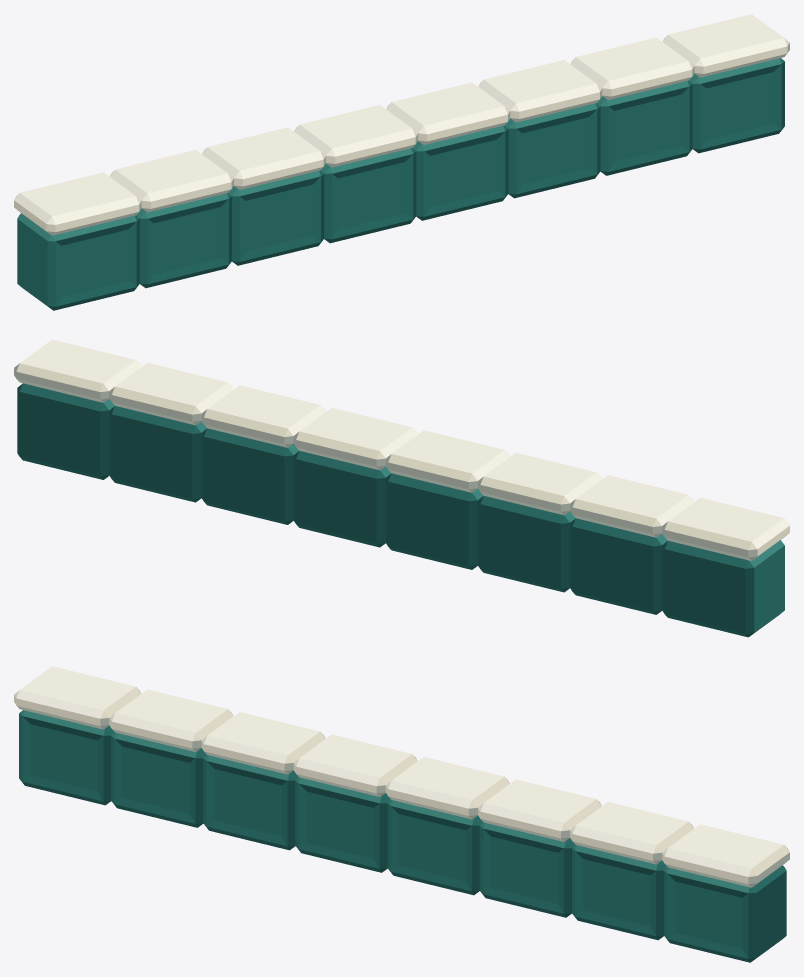
The model's file is Terrain_TopRun8LR.gltf.
3 renders of one model, top to bottom at view 1: azimuth 30°, elevation 25°; view 2: azimuth 150°, elevation 25°; view 3: azimuth 330°, elevation 25°, orthographic.
Visible parts, largest first — view 1: Terrain_TopRun8LR_baked; view 2: Terrain_TopRun8LR_baked; view 3: Terrain_TopRun8LR_baked.
Boxes of the visible parts, x1,y1,x2,y2 form: Terrain_TopRun8LR_baked: (14,14,789,310); Terrain_TopRun8LR_baked: (14,339,789,637); Terrain_TopRun8LR_baked: (14,666,789,962).
Bounding box in the file's own units: 8.07 × 1 × 0.735.
